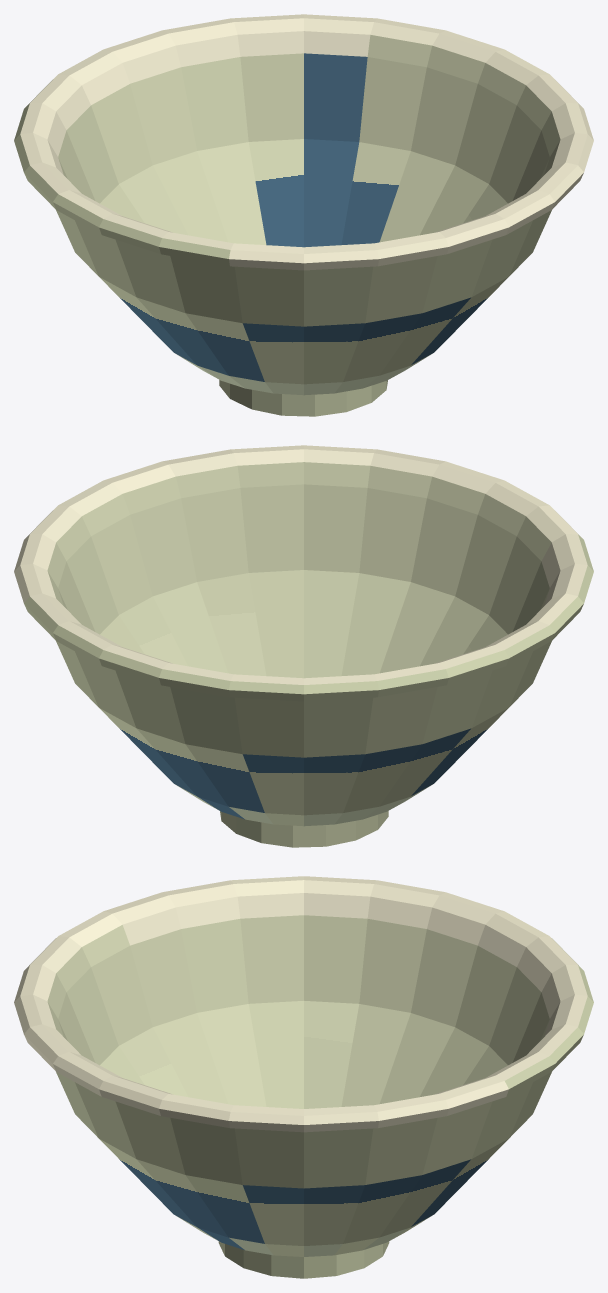
Rendered from vessel-tobe.glb.
3 views of the same model, one above another, from view 1: azimuth 30°, elevation 25°; view 2: azimuth 150°, elevation 25°; view 3: azimuth 270°, elevation 25° (orthographic).
Visible parts, largest first — view 1: vessel-tobe/complete-inner-outer-shell-with-drainage, vessel-tobe/complete-open-foot-ring; view 2: vessel-tobe/complete-inner-outer-shell-with-drainage, vessel-tobe/complete-open-foot-ring; view 3: vessel-tobe/complete-inner-outer-shell-with-drainage, vessel-tobe/complete-open-foot-ring.
Boxes of the visible parts, x1,y1,x2,y2 form: vessel-tobe/complete-inner-outer-shell-with-drainage: [14, 14, 593, 395]; vessel-tobe/complete-open-foot-ring: [219, 380, 387, 416]; vessel-tobe/complete-inner-outer-shell-with-drainage: [14, 445, 593, 826]; vessel-tobe/complete-open-foot-ring: [220, 811, 388, 847]; vessel-tobe/complete-inner-outer-shell-with-drainage: [14, 876, 593, 1256]; vessel-tobe/complete-open-foot-ring: [218, 1241, 389, 1278].
Size of the model in its own units: 0.3744 by 0.1767 by 0.3744.
Materials: 1 (1 with a texture image).
